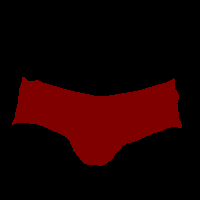mutande: (11, 76, 182, 166)
